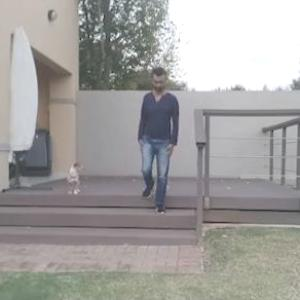follow: (142, 66, 180, 217)
